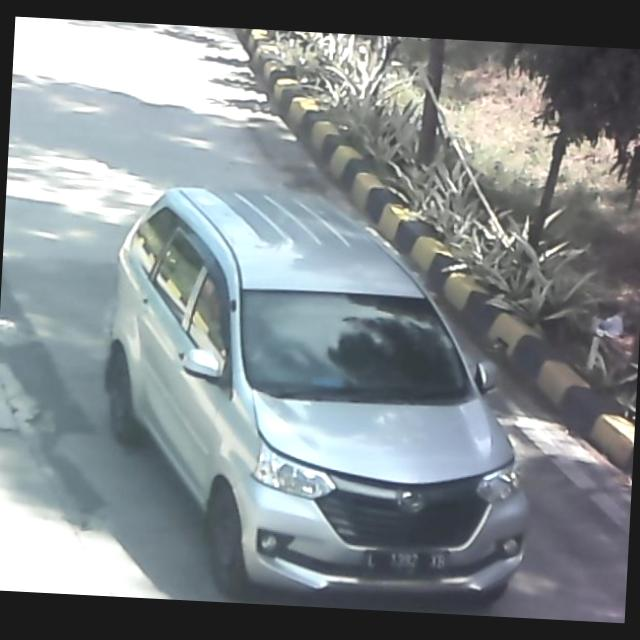plate: (362, 544, 451, 584)
